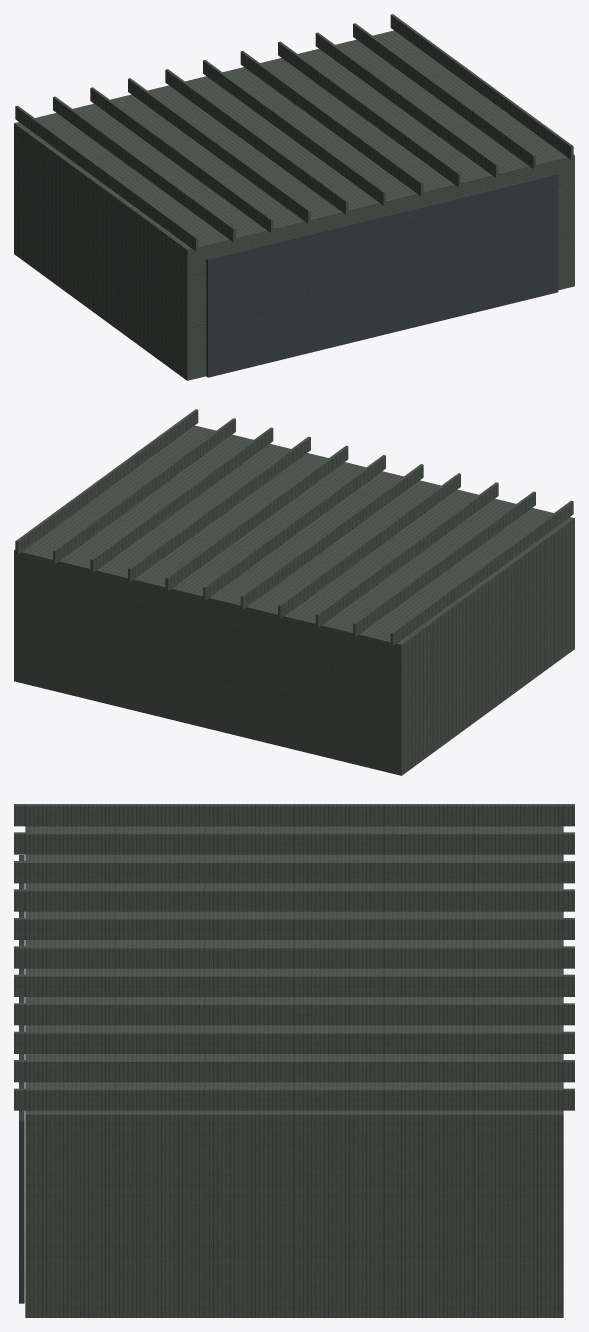
The model's file is damaged1.gltf.
3 views of the same model, one above another, from view 1: azimuth 30°, elevation 25°; view 2: azimuth 150°, elevation 25°; view 3: azimuth 270°, elevation 25° (orthographic). The views are drawn at different scales.
Visible parts, largest first — view 1: britainhangar_damaged1; view 2: britainhangar_damaged1; view 3: britainhangar_damaged1.
Boxes of the visible parts, x1,y1,x2,y2 form: britainhangar_damaged1: [14, 14, 574, 380]; britainhangar_damaged1: [14, 409, 574, 775]; britainhangar_damaged1: [14, 804, 574, 1317].
Bounding box in the file's own units: 62 × 22 × 50.
3 materials, 3 textured.
